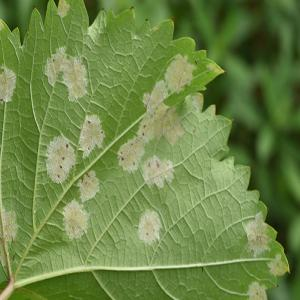Folha: (0, 0, 289, 298)
Fungo: (42, 50, 204, 242), (117, 53, 203, 174), (142, 53, 196, 116), (44, 45, 88, 103), (44, 132, 76, 184), (244, 210, 276, 257), (164, 52, 196, 94), (77, 113, 105, 159), (62, 198, 89, 241), (141, 155, 174, 189), (117, 135, 145, 174), (142, 78, 170, 116), (137, 208, 162, 246), (44, 45, 66, 87), (162, 104, 184, 146), (136, 113, 161, 146), (76, 170, 100, 204), (1, 207, 19, 244), (0, 64, 17, 102), (266, 251, 290, 277), (246, 280, 268, 300), (56, 0, 70, 18)
